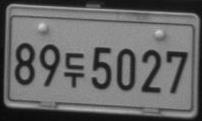0: (115, 47, 136, 91)
2: (140, 49, 161, 93)
5: (90, 46, 112, 90)
7: (166, 50, 188, 94)
8: (13, 41, 36, 86)
9: (39, 43, 60, 86)
두: (64, 51, 85, 88)
